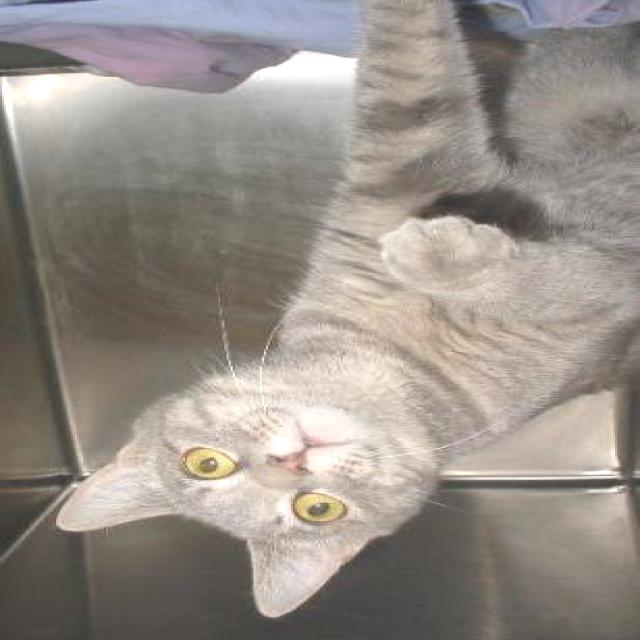Kucing: (29, 77, 629, 617)
